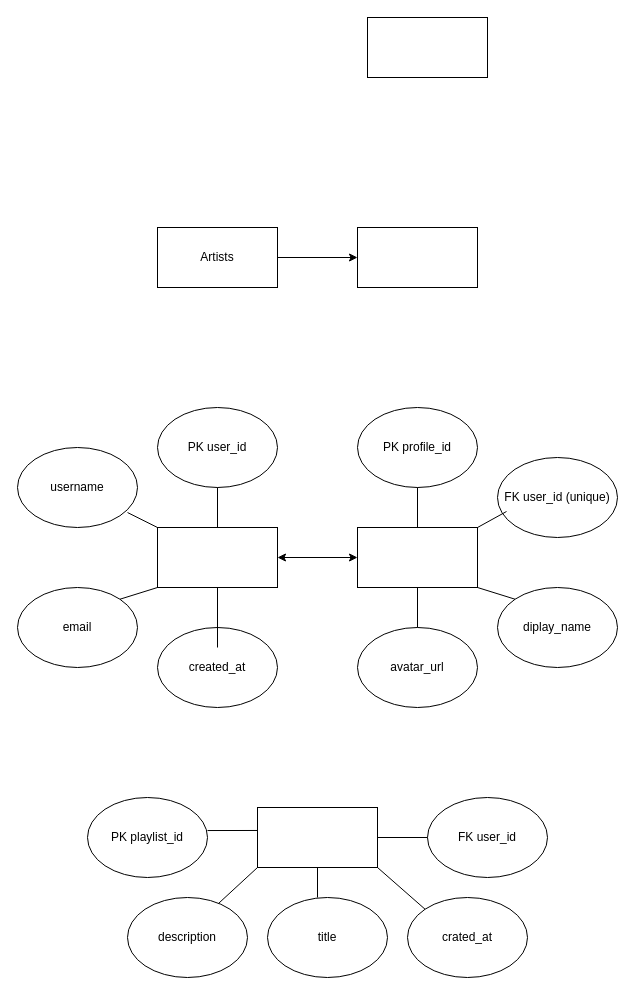
The diagram is 635 pixels wide and 995 high, and some of its shapes have lost their labels. Here are the shapes that lost their labels. From the top down, the centre of each, then its label:
At (427,47): "Tracks".
At (417,257): "Albums".
At (217,557): "Users".
At (417,557): "Profiles".
At (317,837): "Playlist".
